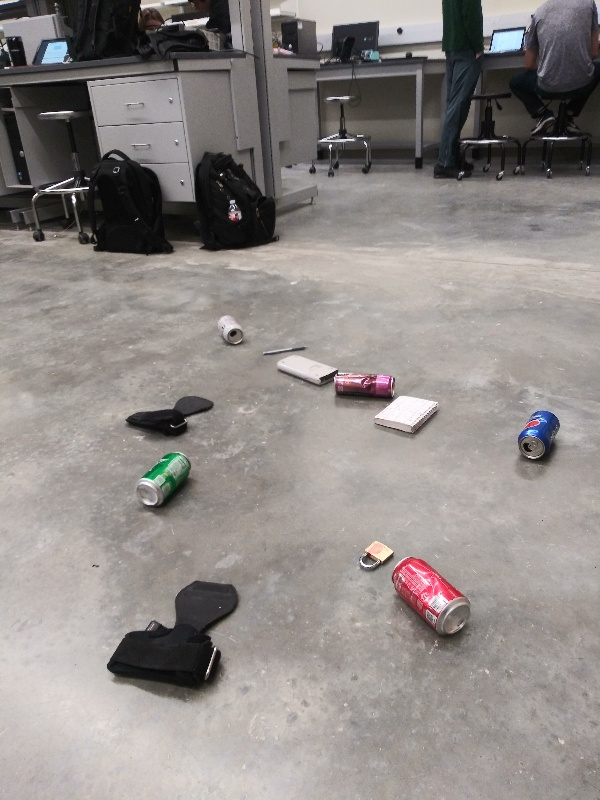can: (391, 553, 478, 638), (124, 448, 196, 510), (514, 408, 565, 465), (326, 365, 400, 401), (210, 311, 248, 348)
